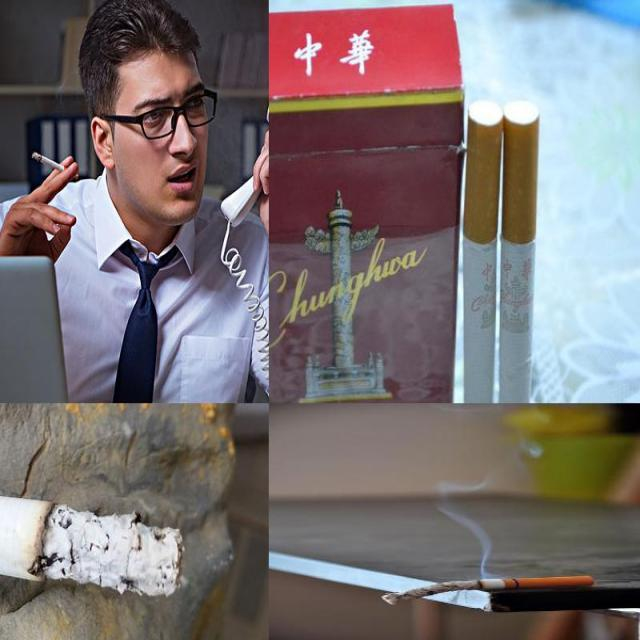cigarette: (0, 446, 186, 597), (495, 100, 541, 402), (462, 99, 502, 402), (382, 576, 596, 604), (30, 150, 80, 182)
